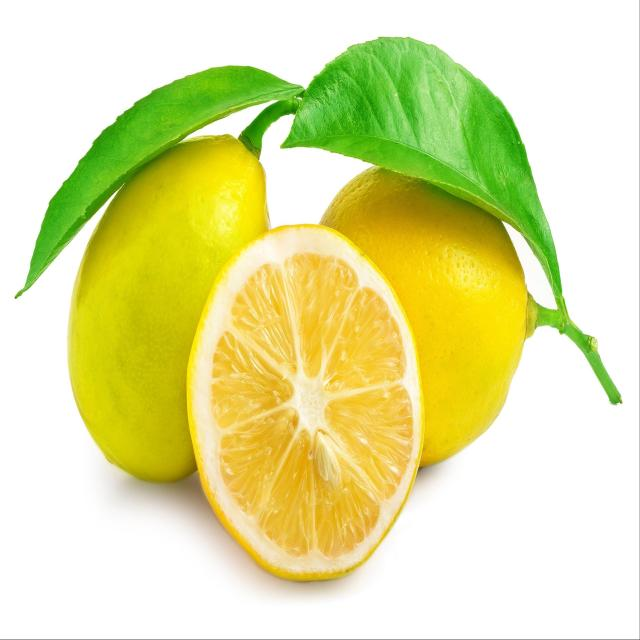lemon: (183, 214, 432, 590)
